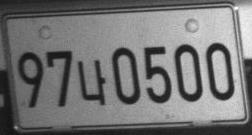0: (205, 41, 235, 101), (174, 43, 203, 102), (111, 46, 140, 104)
5: (143, 45, 172, 104)
7: (45, 50, 73, 106)
9: (16, 50, 43, 107)
나: (77, 58, 107, 105)
